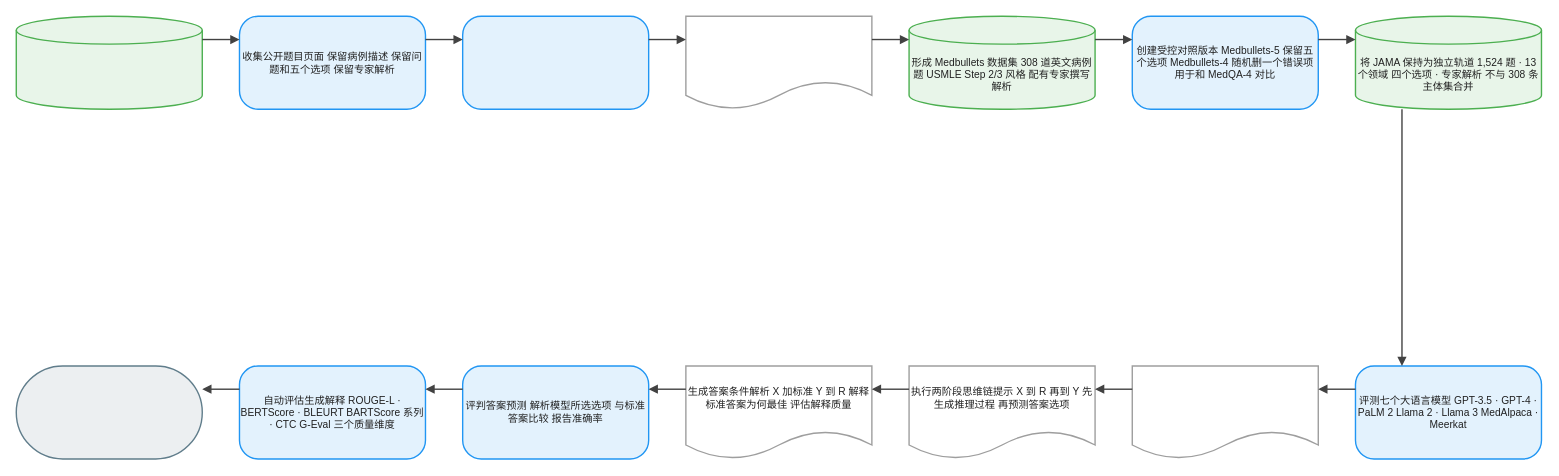
This 1559x476 diagram has some shape labels left out. The centre of each missing label's shape, as x and y in pixels:
人工验证并报告结果 30 道 Medbullets-5 题 GPT-4 与 PaLM 2 · 每条三份评分 完整性 · 正确性 · 相关性: the point at 109,412
定位 Medbullets Step 2/3 帖子 由 X 平台公开链接 时间为 2022-04 至 2023-12 模拟高难度临床病例: the point at 109,62
执行直接回答提示 X 到 Y 零样本或 2/5 样本 少样本采用留一法示例: the point at 1225,412
执行纯文本准入筛选 排除依赖图像的病例 仅保留公开可用样本 确保答案上下文完整: the point at 555,62
标准化每条问答记录 病例 · 问题 · 五个选项 正确答案 解释所有选项的专家理由: the point at 778,62
